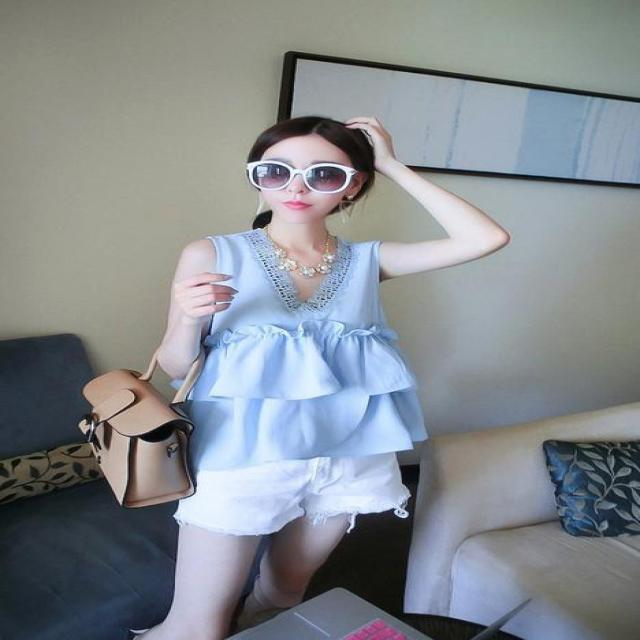shorts: (176, 421, 406, 520)
vest: (170, 231, 431, 459)
